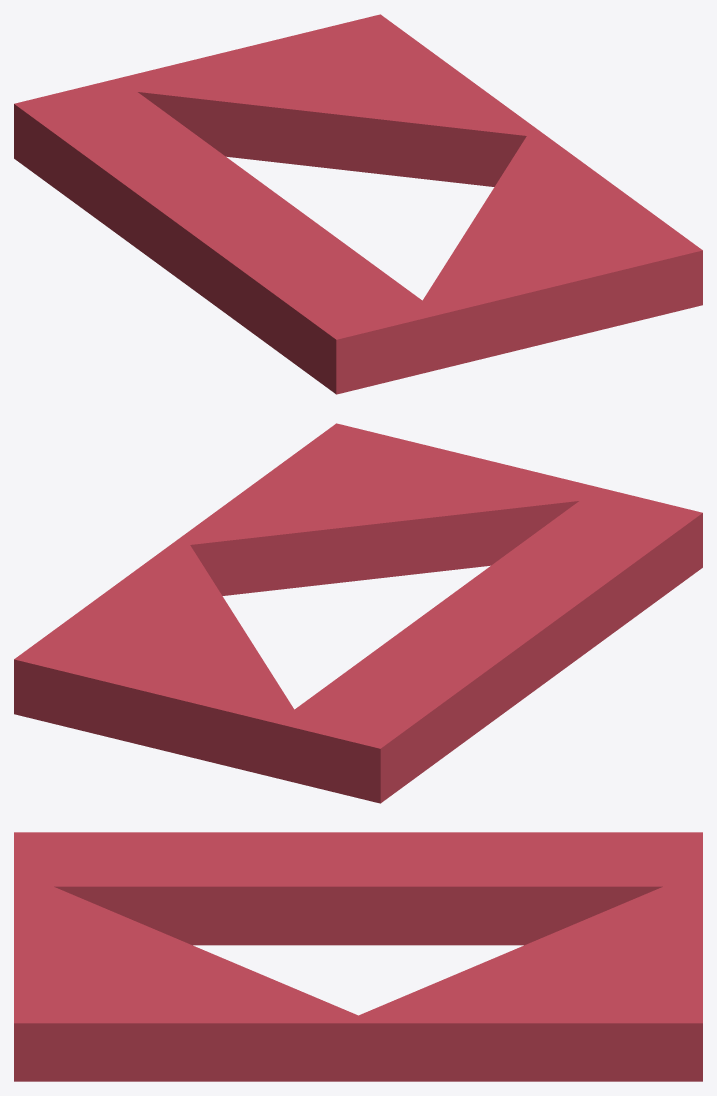
File: forat_isosceles.glb
3 renders of one model, top to bottom at view 1: azimuth 30°, elevation 25°; view 2: azimuth 150°, elevation 25°; view 3: azimuth 270°, elevation 25°, orthographic. The views are drawn at different scales.
Visible parts, largest first — view 1: Mesh_Mesh_head_geo.001_lambert2SG.001; view 2: Mesh_Mesh_head_geo.001_lambert2SG.001; view 3: Mesh_Mesh_head_geo.001_lambert2SG.001.
Boxes of the visible parts, x1,y1,x2,y2 form: Mesh_Mesh_head_geo.001_lambert2SG.001: (14, 14, 702, 394); Mesh_Mesh_head_geo.001_lambert2SG.001: (14, 423, 702, 803); Mesh_Mesh_head_geo.001_lambert2SG.001: (14, 832, 702, 1081).
Size of the model in its own units: 21 by 3 by 32.
